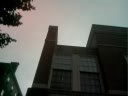window: (103, 55, 113, 75), (115, 47, 122, 68), (122, 83, 128, 96), (110, 86, 114, 96)
